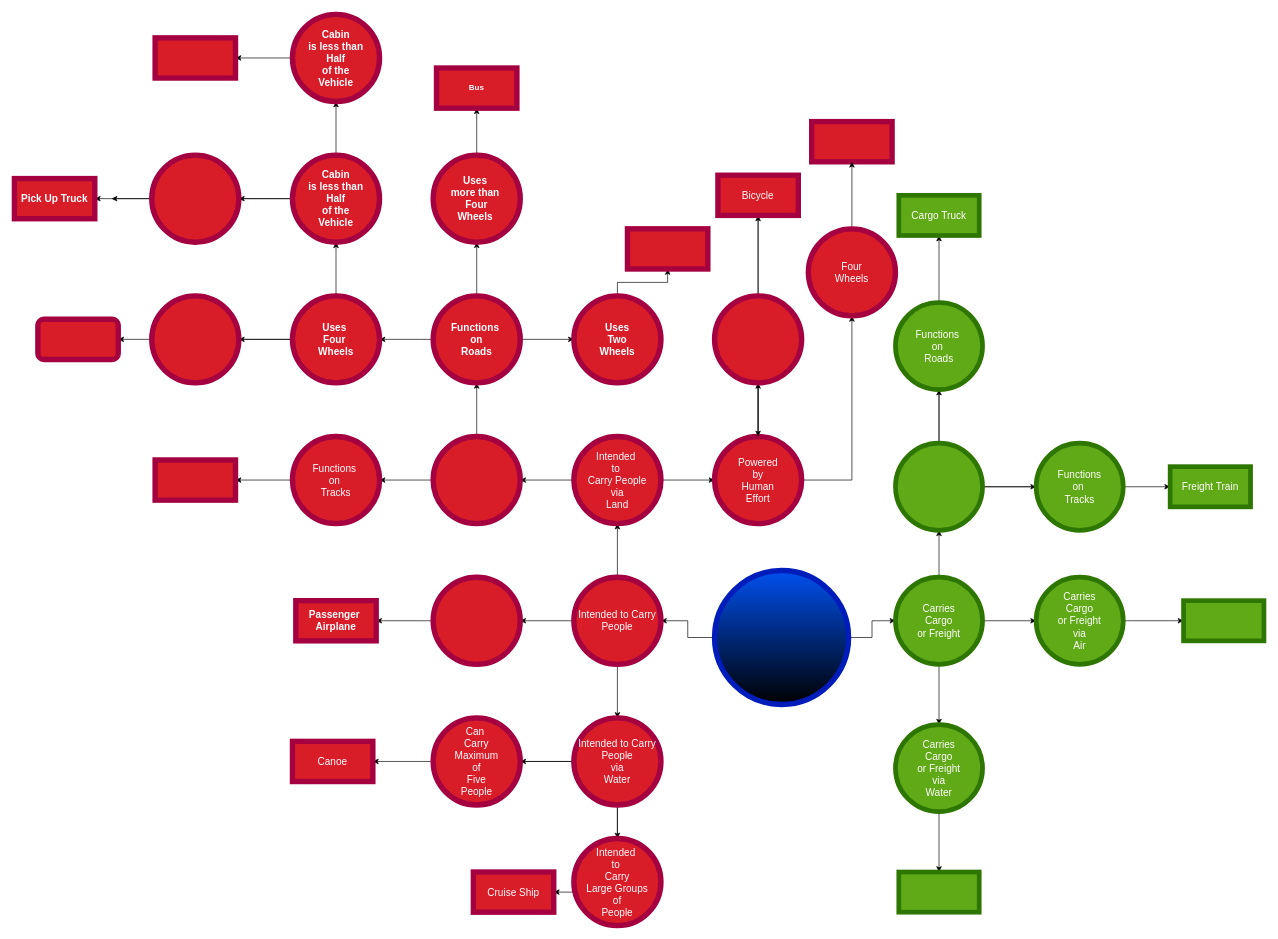
The diagram is 1278 pixels wide and 939 high, and some of its shapes have lost their labels. Each missing label, with the box of its shape:
Cabin is the Majority of the Vehicle: (149, 293, 241, 385)
Cargo Plane: (1181, 598, 1266, 643)
Cargo Ship: (896, 869, 981, 914)
Carries Cargo or Freight via Land: (893, 441, 985, 532)
Engine Powered: (430, 433, 523, 526)
Intended to Carry People via Air: (430, 574, 523, 667)
Modes of Transportation: (712, 567, 851, 707)
Motorcycle: (624, 226, 710, 271)
Painted & Not Triangluar: (149, 152, 241, 245)
Passenger Automobile: (35, 316, 121, 362)
Passenger Train: (152, 457, 238, 503)
Skateboard: (809, 119, 894, 164)
Tesla Cybertruck: (152, 35, 238, 80)
Two Wheels: (712, 293, 804, 385)
